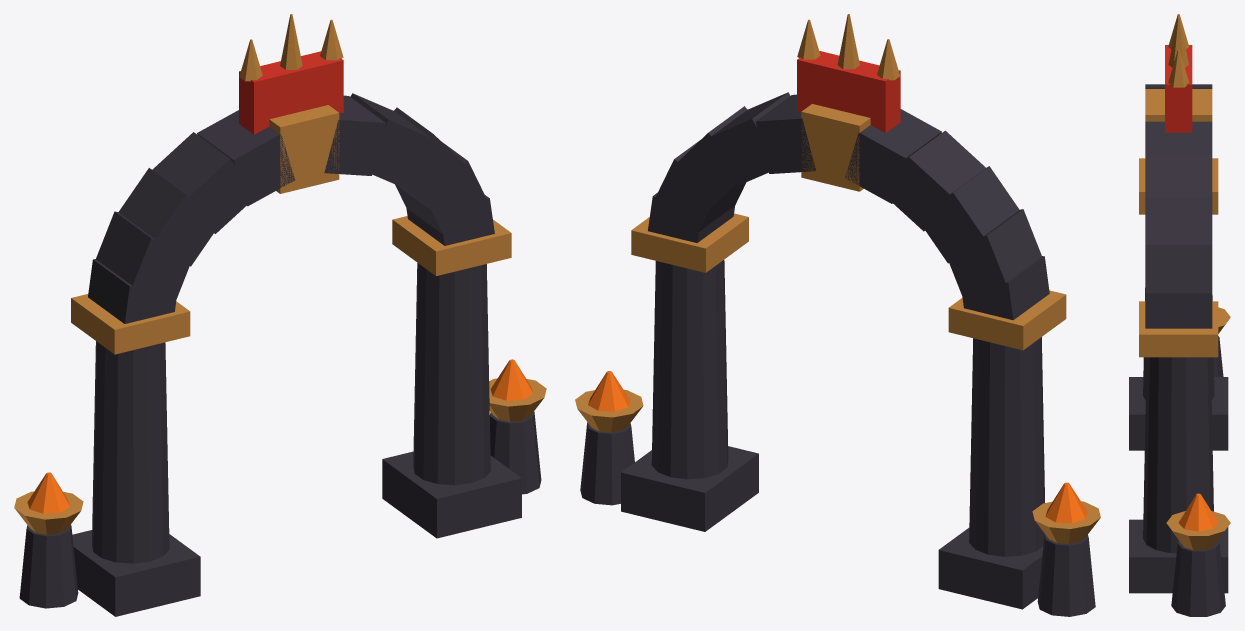
The model's file is boss_colosseum_arch.obj.
3 renders of one model, left to right at view 1: azimuth 30°, elevation 25°; view 2: azimuth 150°, elevation 25°; view 3: azimuth 270°, elevation 25°, orthographic. The views are drawn at different scales.
Visible parts, largest first — view 1: BossColosseumArch; view 2: BossColosseumArch; view 3: BossColosseumArch.
Part boxes in pixels (x1,y1,x2,y2): BossColosseumArch: (14, 14, 546, 616); BossColosseumArch: (575, 14, 1100, 616); BossColosseumArch: (1129, 14, 1230, 616).
Bounding box in the file's own units: 39.4 × 38.48 × 7.32.
